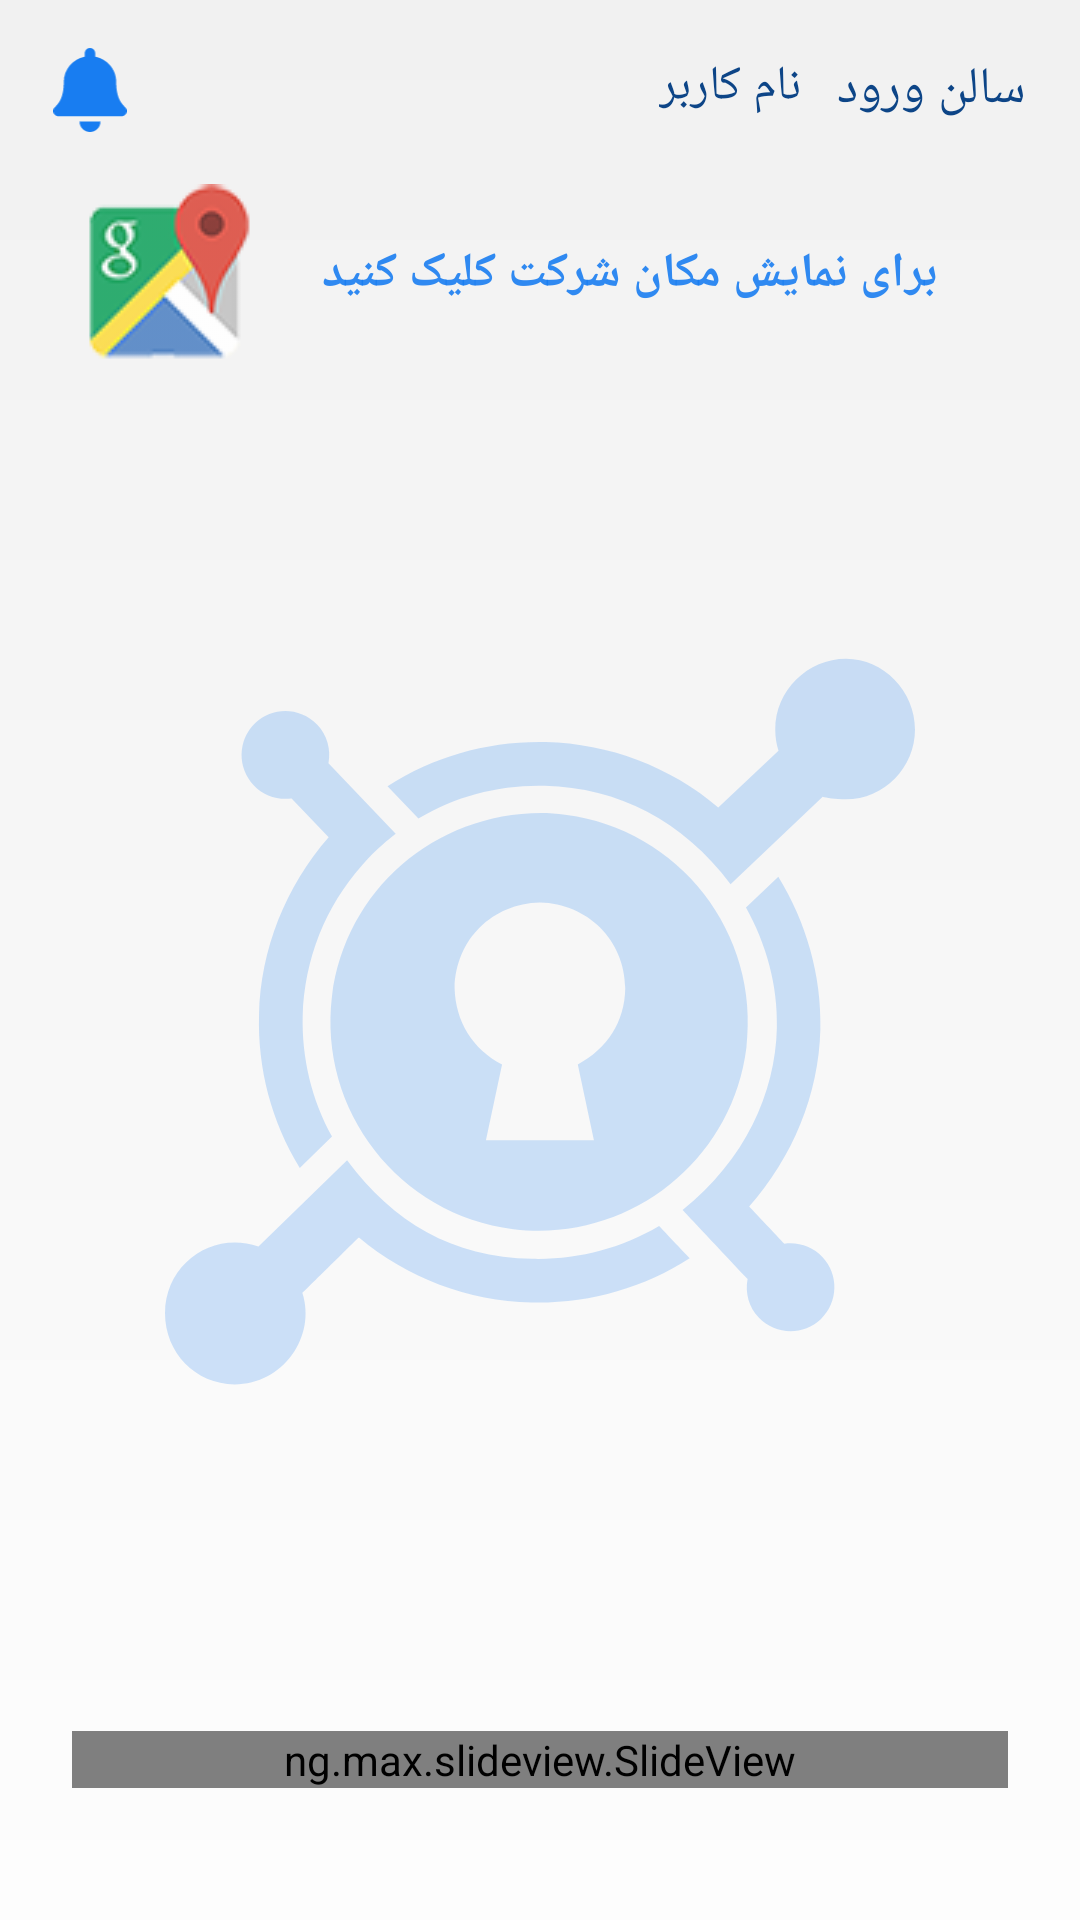

Named icons in this screenshot (1080px×1920px) and their bounding boxes, (x1, y1, x2, y2):
bell: (53, 48, 127, 132)
